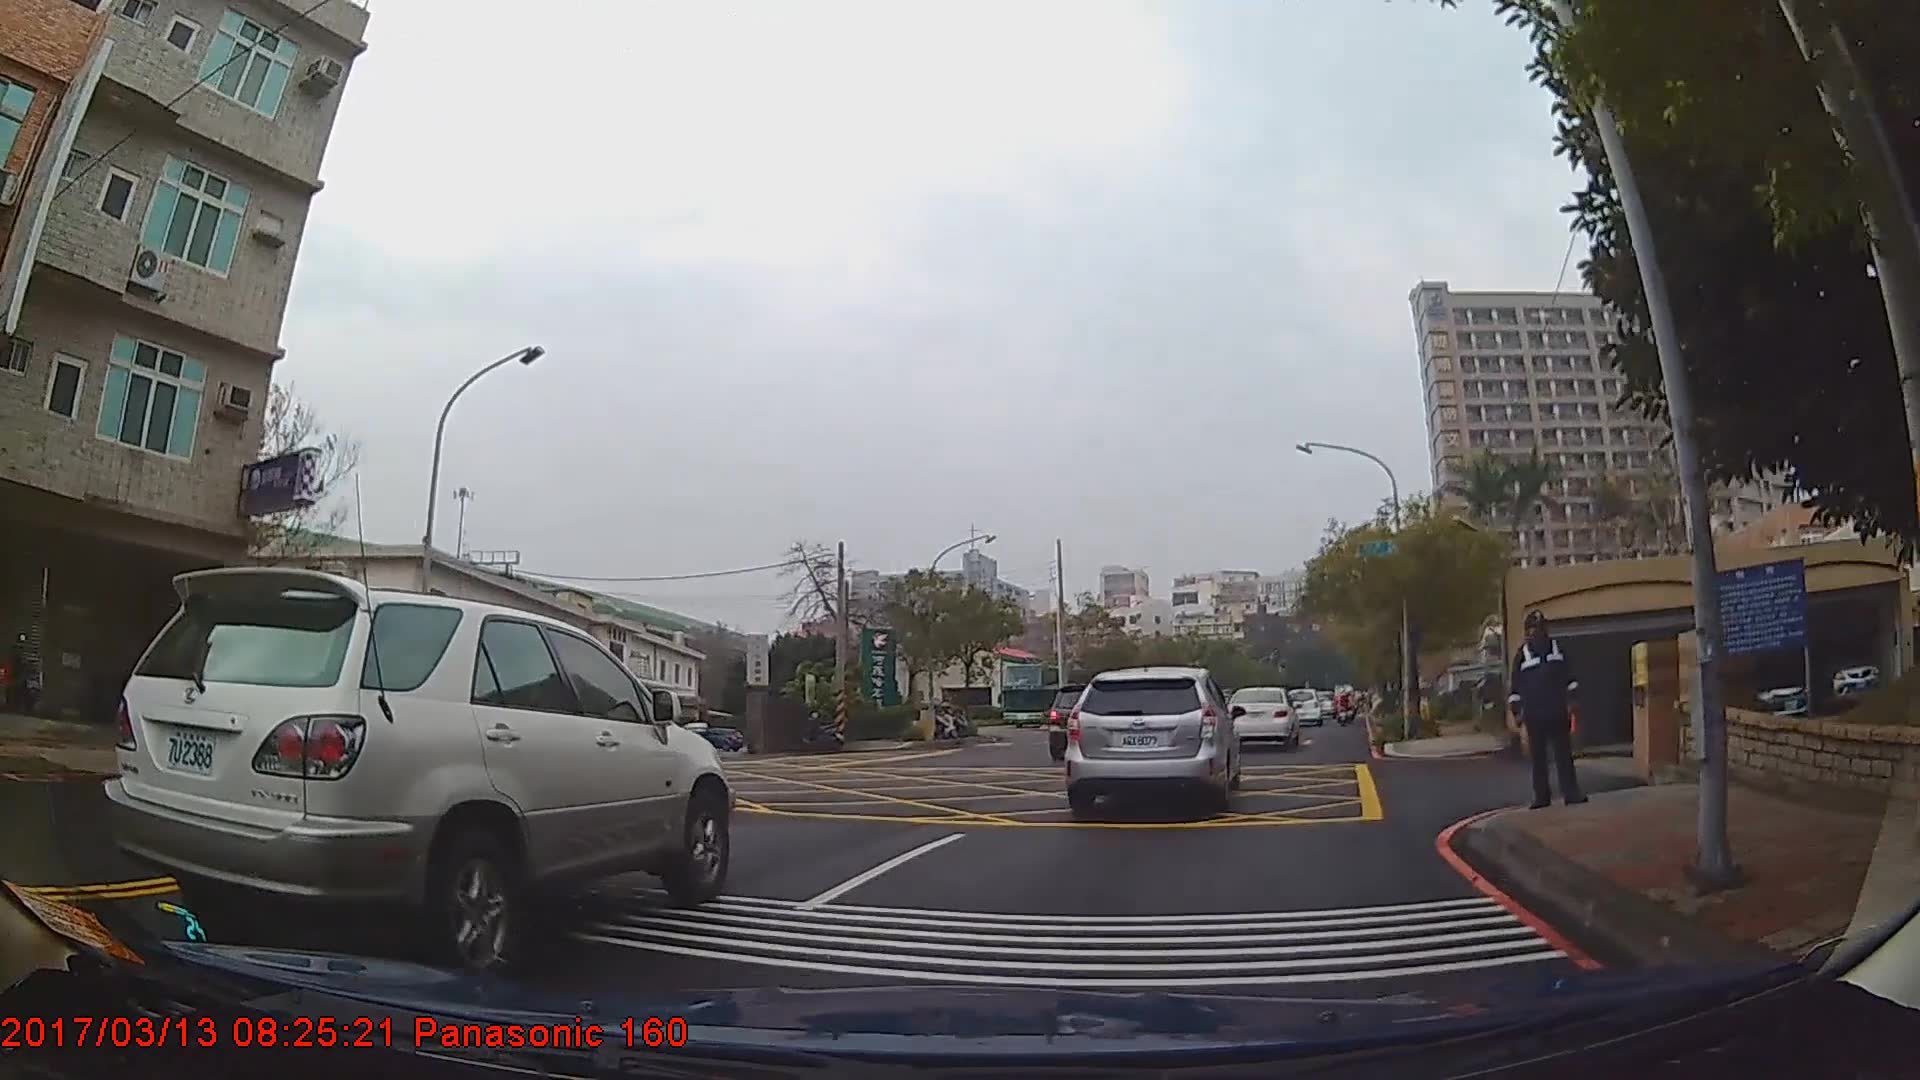pedestrian: (1511, 608, 1586, 810)
vehicle: (99, 559, 730, 974), (1066, 663, 1241, 813), (1223, 687, 1300, 752), (1286, 686, 1323, 727), (688, 727, 742, 749)
